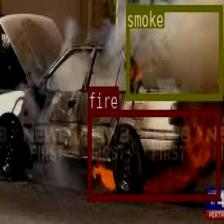fire: (87, 108, 220, 199)
smoke: (126, 4, 222, 99)
